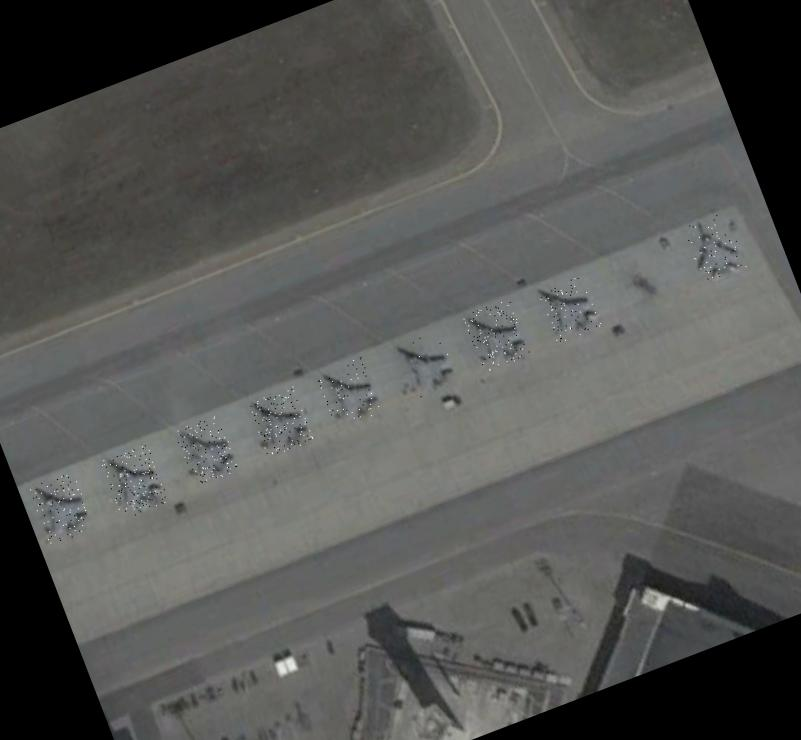A13: (98, 442, 169, 520), (389, 325, 459, 402), (461, 298, 530, 372), (27, 470, 94, 546), (314, 356, 382, 429), (682, 212, 748, 286), (247, 386, 314, 457), (173, 414, 239, 486), (537, 274, 602, 344)
